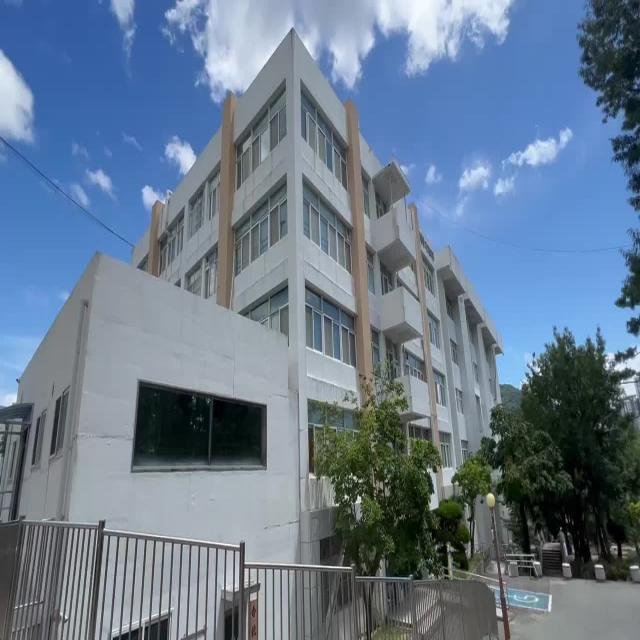building: (86, 74, 308, 527)
